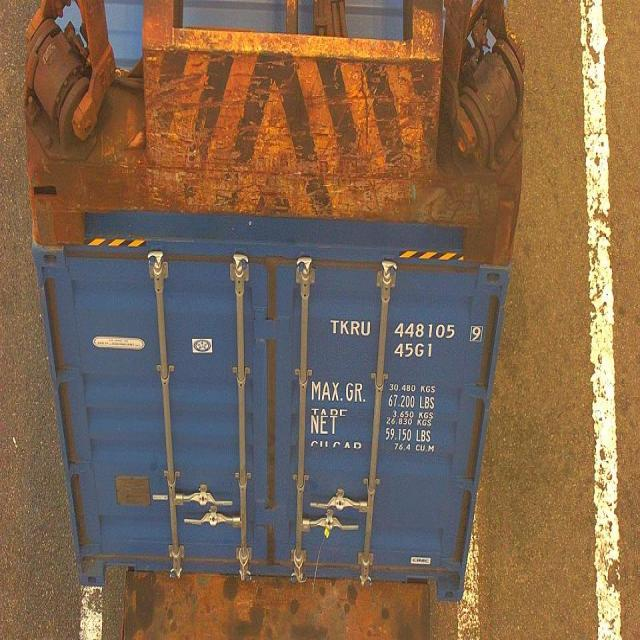ISO: (394, 342, 432, 359)
container_number: (328, 312, 482, 346)
